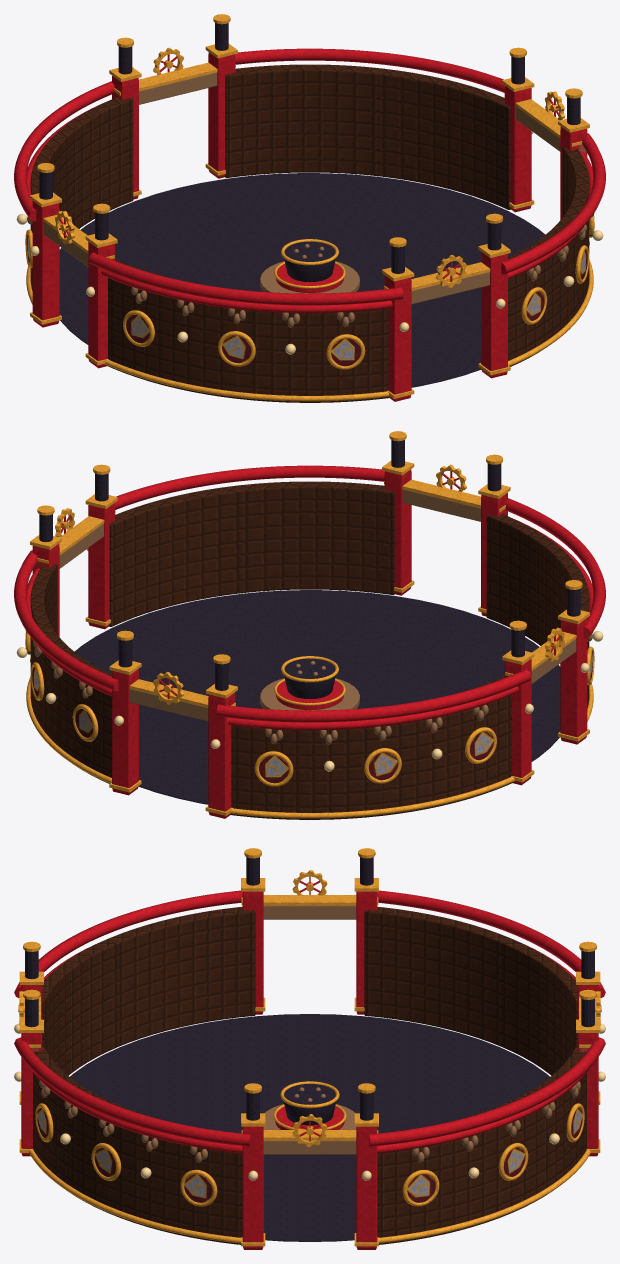
The model's file is CHO_MonsterRoom.fbx.
3 views of the same model, one above another, from view 1: azimuth 30°, elevation 25°; view 2: azimuth 150°, elevation 25°; view 3: azimuth 270°, elevation 25° (orthographic). The views are drawn at different scales.
Visible parts, largest first — view 1: CHO_MonsterRoom; view 2: CHO_MonsterRoom; view 3: CHO_MonsterRoom.
Boxes of the visible parts, <box> form: CHO_MonsterRoom: <box>14,14,605,402</box>; CHO_MonsterRoom: <box>14,431,605,819</box>; CHO_MonsterRoom: <box>14,848,605,1249</box>.
Size of the model in its own units: 25.54 by 7.57 by 25.54.
